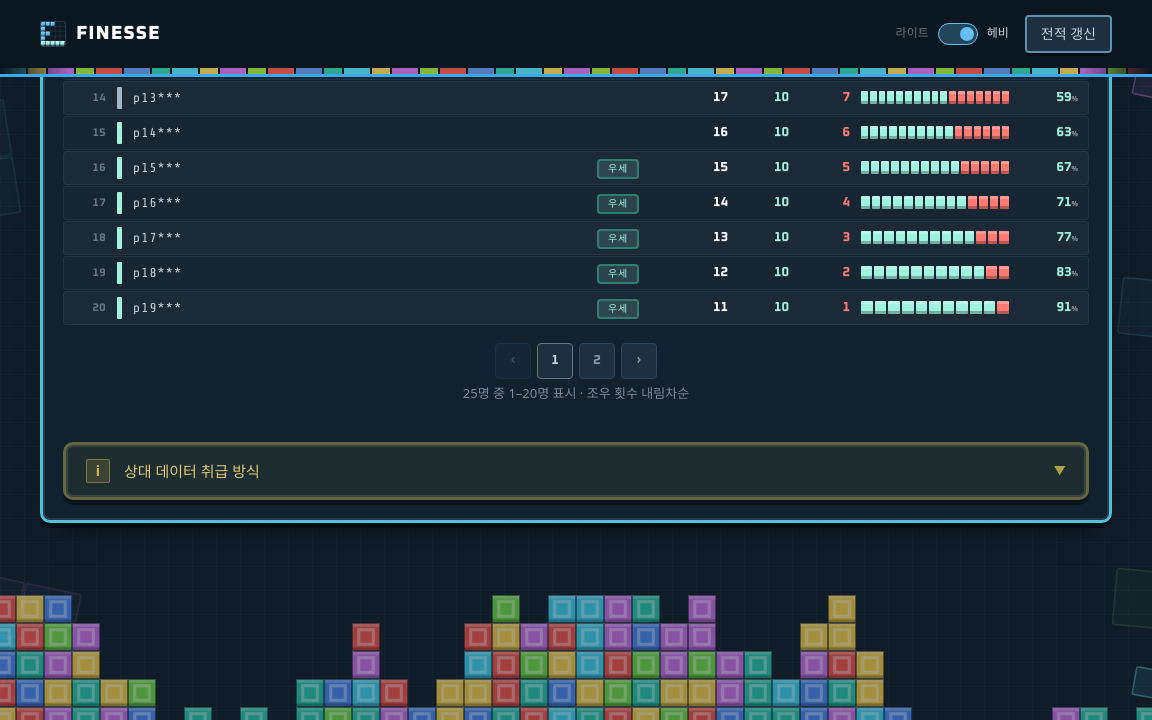
Test: ReportPage — 헤비 뷰 › 순위표는 20명씩 나눠 보여준다
(page scrolled)
expect the text "25명 중 1–20명 표시 · 조우 횟수 내림차순" is shown: met, box [463, 384, 689, 402]
Click the button named "다음 페이지": coordinates (639, 360) [621, 342, 657, 378]
(page scrolled)
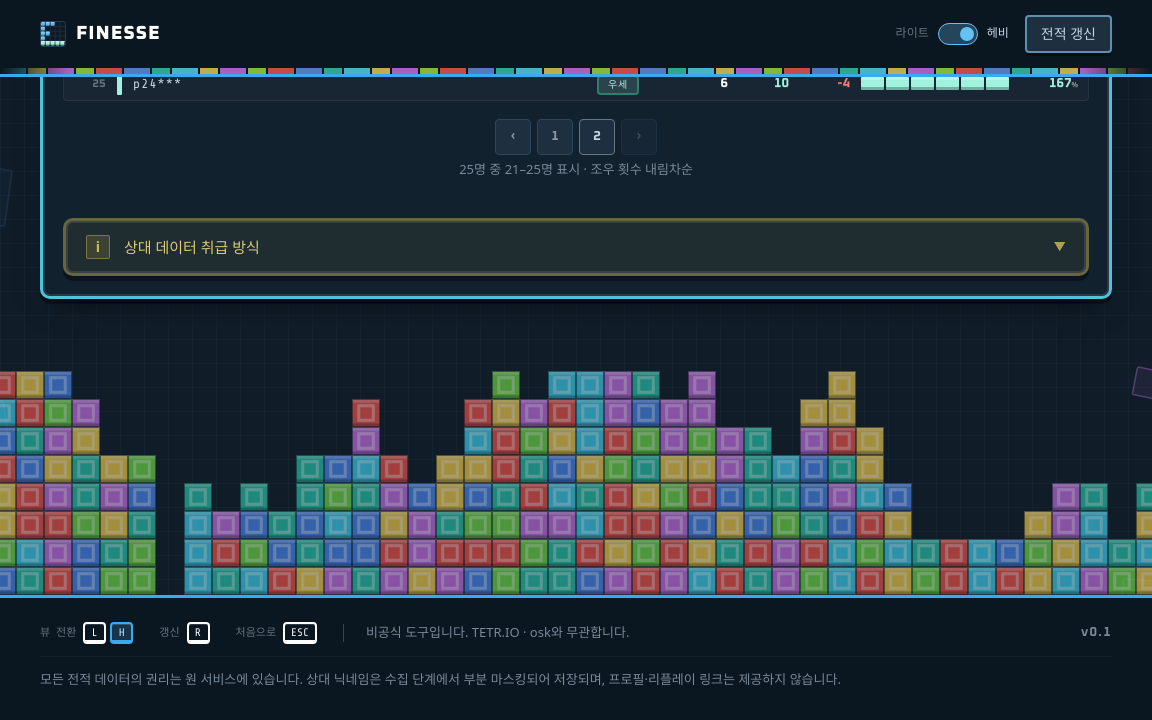
expect the number of rows is 6: met
